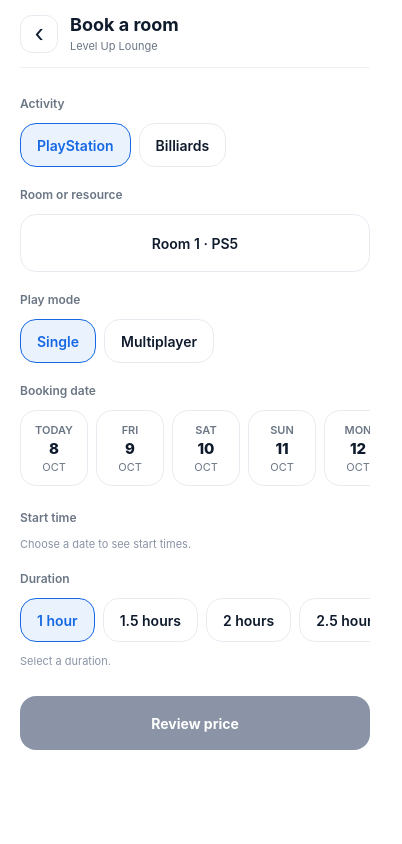
Test case: BookingFlow › reloads resources when activity changes and retries a failed reload
The width and height of the screenshot is (402, 844).
What coordinates should you click on to do the following:
click the button "Billiards"
I would click on:
 (182, 145)
Its box is x1=139 y1=123 x2=226 y2=167.
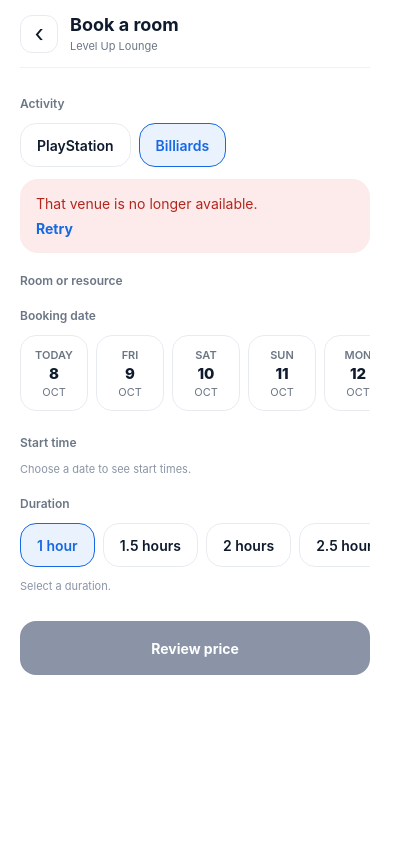
expect the text "That venue is no longer available." is shown: met, box x1=36 y1=195 x2=258 y2=212
What coordinates should you click on to do the following:
click the text "Retry"
I would click on:
 (54, 228)
Its box is x1=36 y1=220 x2=73 y2=237.
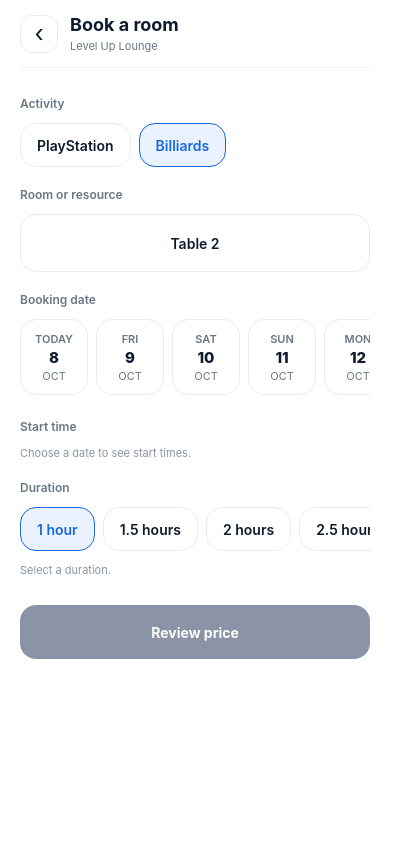
expect the text "Play mode" is not shown: met
expect the button "Table 2" is shown: met, box x1=20 y1=214 x2=370 y2=272
